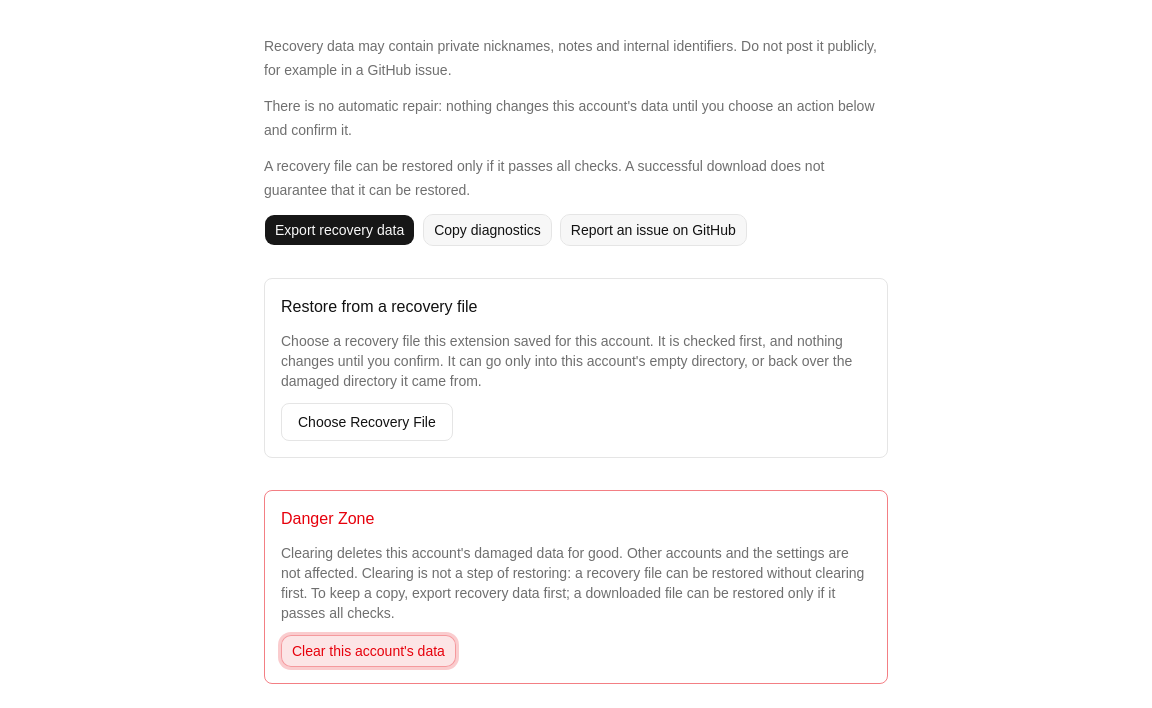
Test case: focus goes in, stays in, and comes back › the confirmation before clearing an account's data on the Recovery page, cancelled
The width and height of the screenshot is (1152, 708).
(page scrolled)
Step 1. Click the button "Clear this account's data" → (368, 651), box [281, 635, 456, 667]
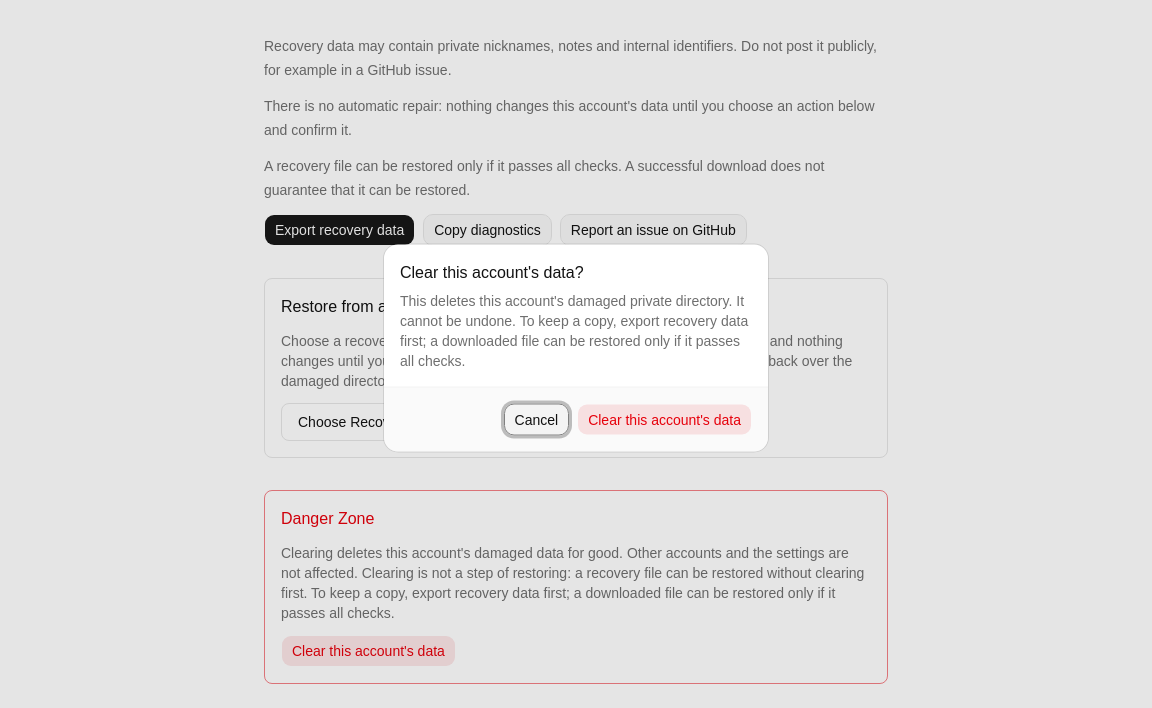
Step 2. Click the button "Cancel" → (536, 420), box [504, 404, 569, 436]
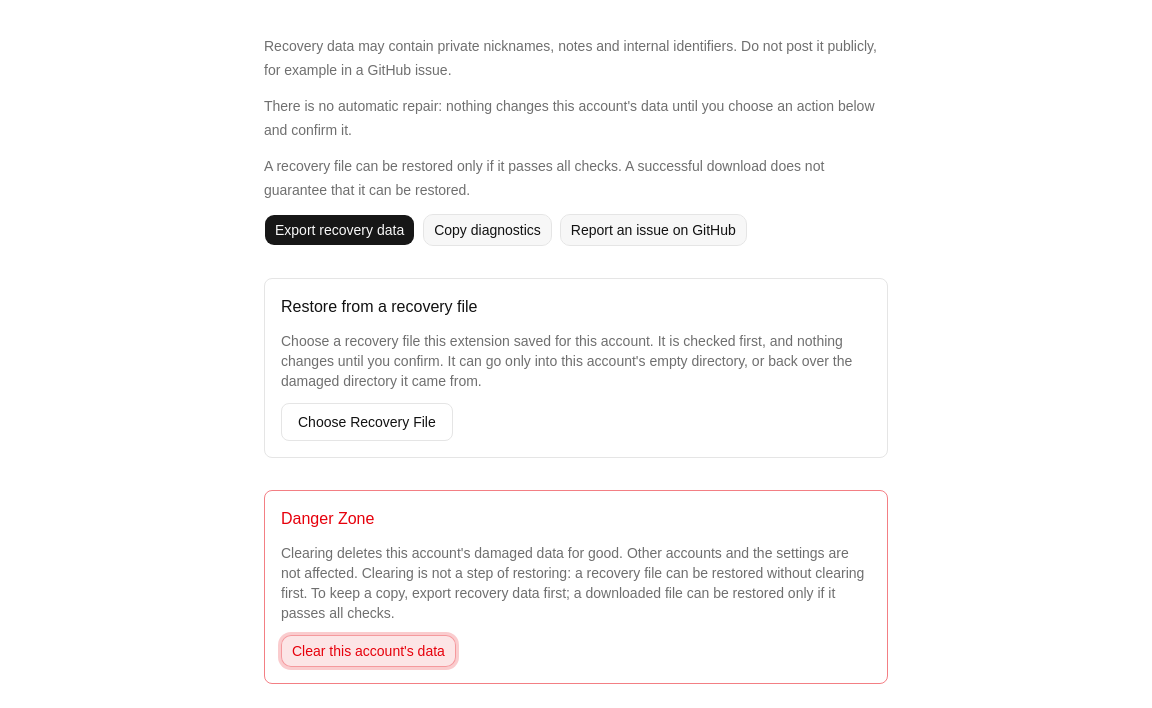
Result: the dialog is gone
